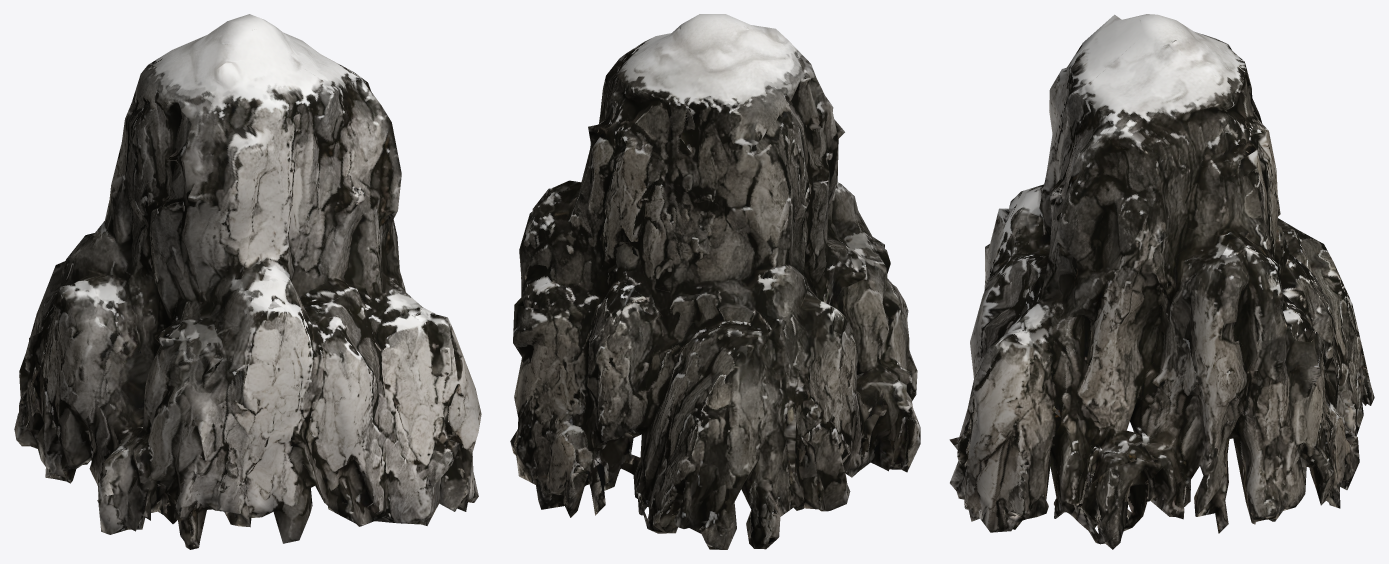
The model's file is InkPart07_Rock.fbx.
3 renders of one model, left to right at view 1: azimuth 30°, elevation 25°; view 2: azimuth 150°, elevation 25°; view 3: azimuth 270°, elevation 25°, orthographic. The views are drawn at different scales.
Visible parts, largest first — view 1: texture_mapping; view 2: texture_mapping; view 3: texture_mapping.
Boxes of the visible parts, x1,y1,x2,y2 form: texture_mapping: (14, 14, 481, 549); texture_mapping: (510, 14, 920, 549); texture_mapping: (949, 14, 1374, 549).
Size of the model in its own units: 0.8013 by 0.8331 by 0.9733.
Materials: 1 (1 with a texture image).
